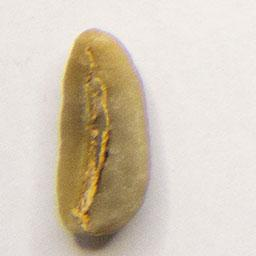longberry: (53, 23, 154, 241)
